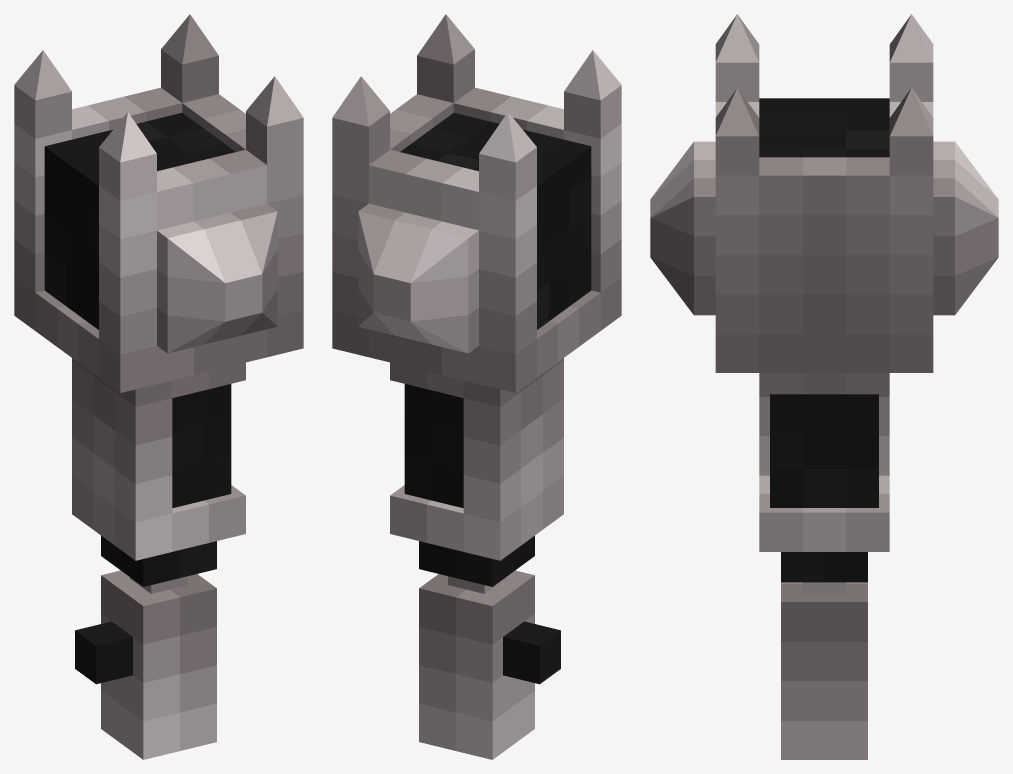
The model's file is arm_nozzle_l.obj.
3 views of the same model, side by side, from view 1: azimuth 30°, elevation 25°; view 2: azimuth 150°, elevation 25°; view 3: azimuth 270°, elevation 25° (orthographic). The views are drawn at different scales.
Parts seen in each view (by area): view 1: ARM_LEFT_NOZZLE_Cube.029, ARM_LEFT_DECO_IRON_Cube.151; view 2: ARM_LEFT_NOZZLE_Cube.029, ARM_LEFT_DECO_IRON_Cube.151; view 3: ARM_LEFT_NOZZLE_Cube.029, ARM_LEFT_DECO_IRON_Cube.151.
Part boxes in pixels (left/top/right/bottom): ARM_LEFT_NOZZLE_Cube.029: left=14, top=87, right=303, bottom=759; ARM_LEFT_DECO_IRON_Cube.151: left=14, top=14, right=303, bottom=353; ARM_LEFT_NOZZLE_Cube.029: left=332, top=87, right=621, bottom=759; ARM_LEFT_DECO_IRON_Cube.151: left=332, top=14, right=621, bottom=353; ARM_LEFT_NOZZLE_Cube.029: left=715, top=98, right=933, bottom=759; ARM_LEFT_DECO_IRON_Cube.151: left=650, top=14, right=998, bottom=315.
Size of the model in its own units: 0.3125 by 1.09 by 0.5.
